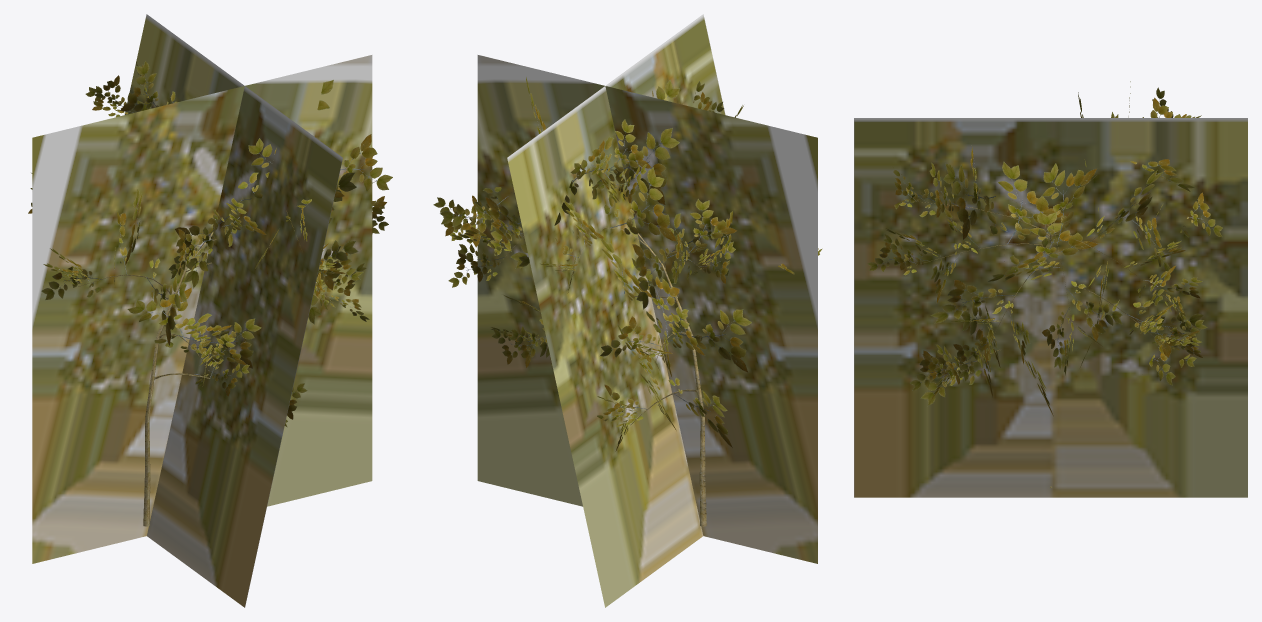
File: Shrub1-2B.fbx
The picture shows the model from 3 angles, left to right: view 1: azimuth 30°, elevation 25°; view 2: azimuth 150°, elevation 25°; view 3: azimuth 270°, elevation 25°; orthographic projection.
Parts seen in each view (by area): view 1: Billboard-Shrub1-2B, Shrub1-2B_LOD0; view 2: Billboard-Shrub1-2B, Shrub1-2B_LOD0; view 3: Billboard-Shrub1-2B, Shrub1-2B_LOD0.
Boxes of the visible parts, x1,y1,x2,y2 form: Billboard-Shrub1-2B: (32,14,372,607); Shrub1-2B_LOD0: (28,61,392,526); Billboard-Shrub1-2B: (477,14,817,607); Shrub1-2B_LOD0: (433,77,822,526); Billboard-Shrub1-2B: (854,118,1247,497); Shrub1-2B_LOD0: (867,81,1222,487).
Size of what is drawn, in the model's own units: 319 by 363 by 292.
